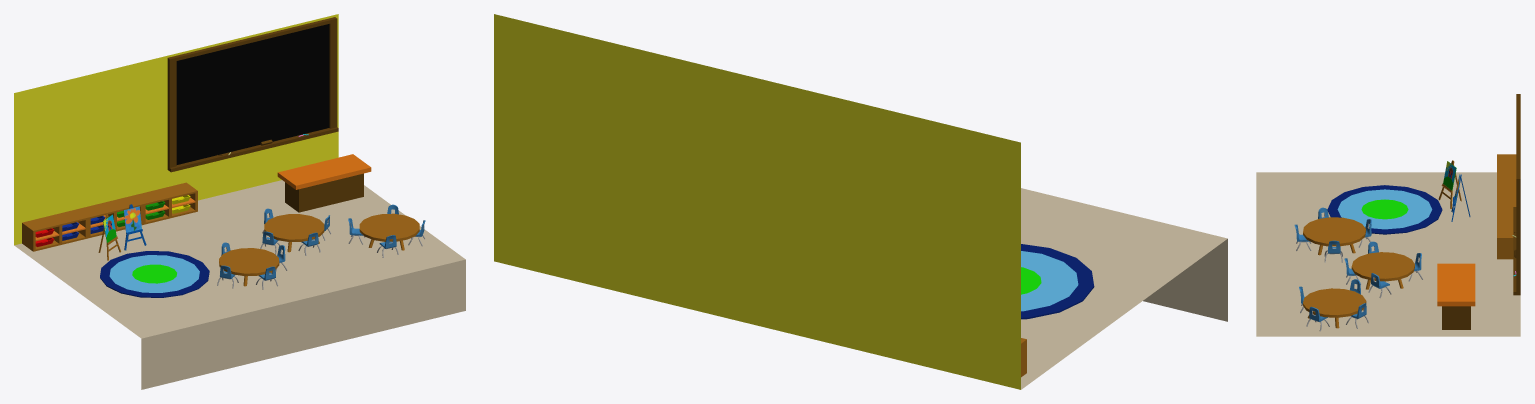
The model's file is Kindergarten_Classroom_-_Updated.fbx.
The picture shows the model from 3 angles, left to right: view 1: azimuth 30°, elevation 25°; view 2: azimuth 150°, elevation 25°; view 3: azimuth 270°, elevation 25°; orthographic projection. The views are drawn at different scales.
Visible parts, largest first — view 1: Cube.015; view 2: Cube.015; view 3: Cube.015.
Boxes of the visible parts, x1,y1,x2,y2 form: Cube.015: (14, 14, 465, 389); Cube.015: (494, 14, 1227, 389); Cube.015: (1256, 94, 1520, 336).
Bounding box in the file's own units: 762 × 457 × 518.
